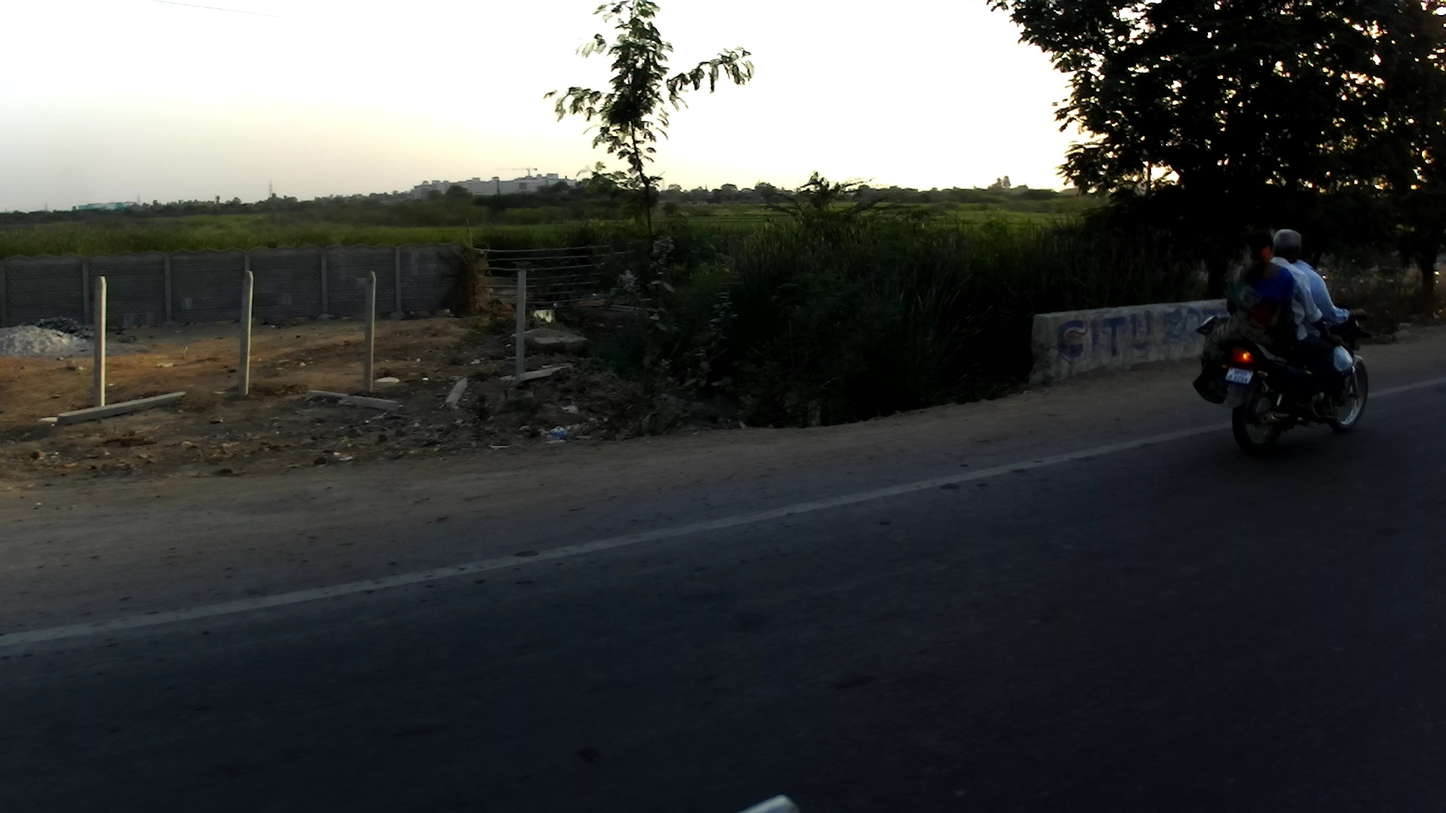motorcycle: (1212, 303, 1373, 449)
rider: (1180, 239, 1292, 407), (1290, 227, 1363, 418), (1268, 227, 1331, 413)
